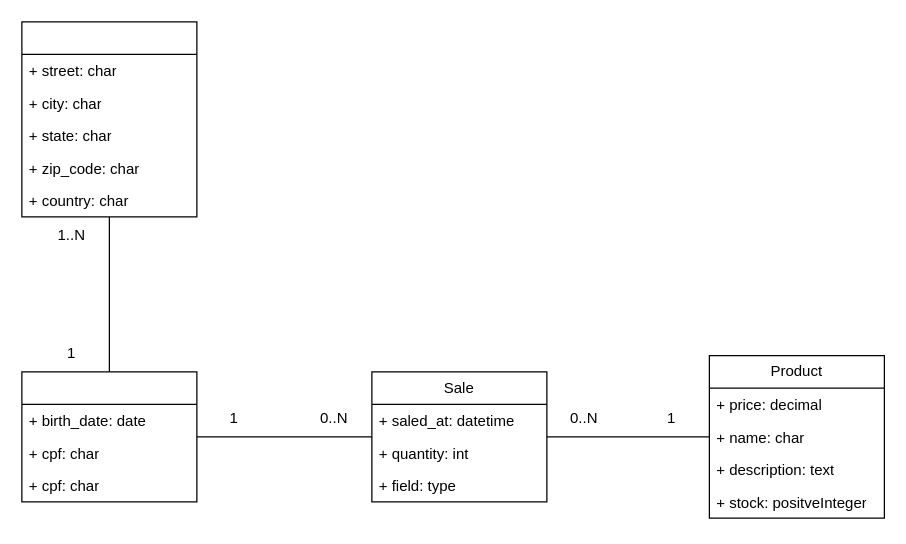
Some shapes in this 906 by 544 pixel diagram are drawn without their labels. Each missing label, with the box of its shape:
Address: (21, 21, 197, 217)
User (AbstractUser): (21, 371, 197, 502)
